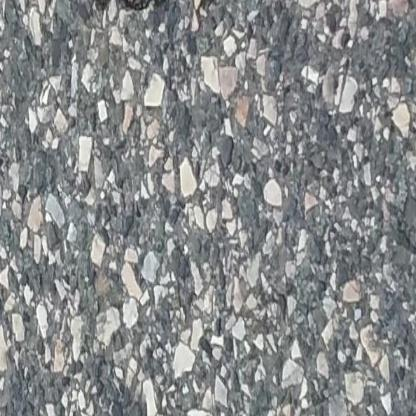Cracks: (43, 0, 166, 9)
